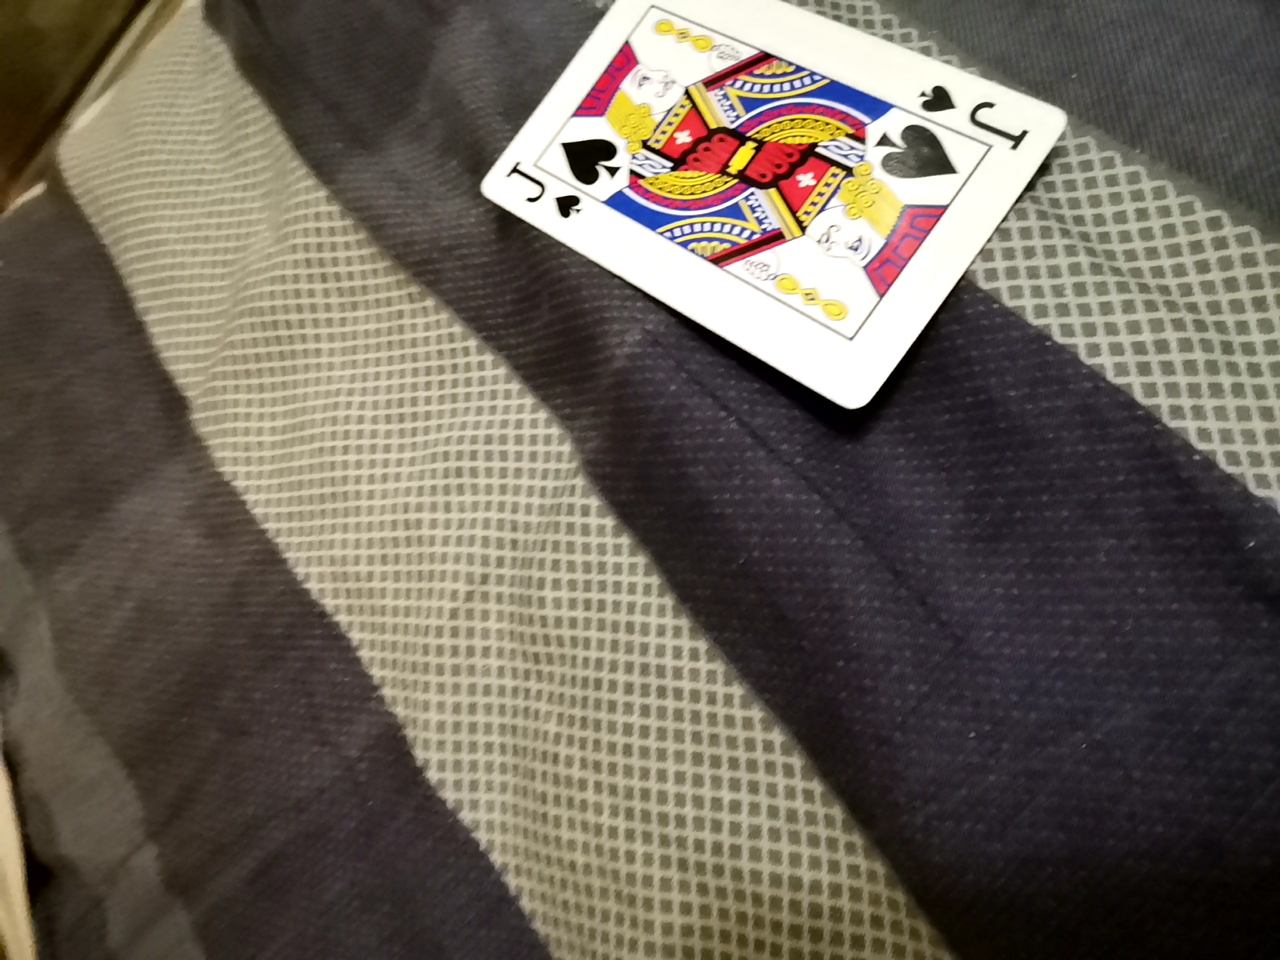ht j: (478, 3, 1083, 415)
